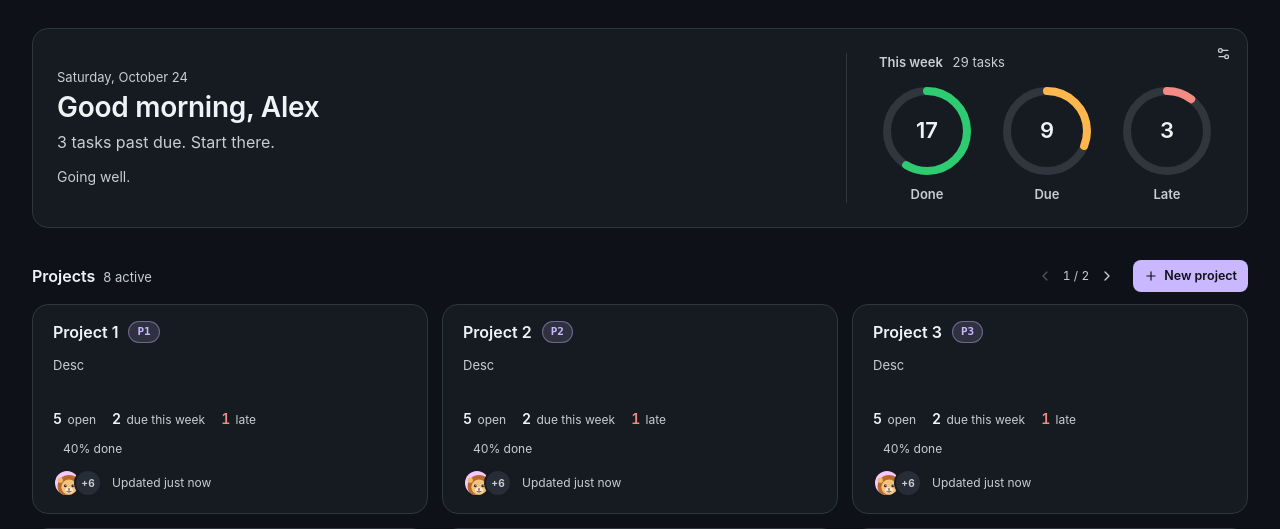
Test case: Home › pages project cards with previous and next
expect the button with aria-label "Open Project 1" is shown: met, box [32, 304, 428, 514]
expect the button named "Previous projects" is disabled: met, box [1031, 262, 1059, 290]
Click the button named "Next projects" at [1107, 276], box [1093, 262, 1121, 290]
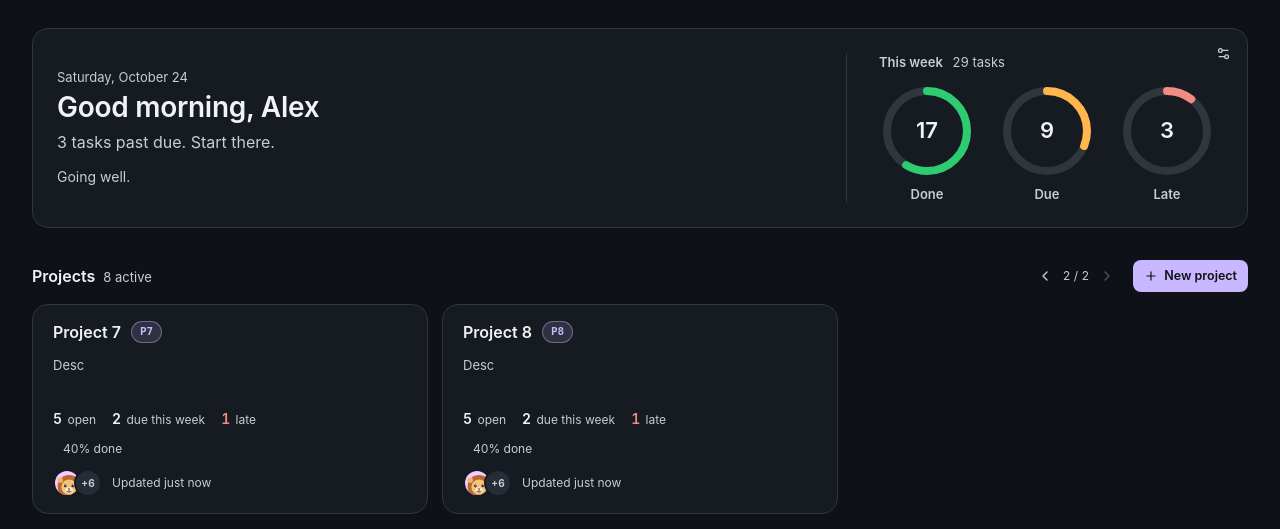
expect the button with aria-label "Open Project 8" is shown: met, box [442, 304, 838, 514]
